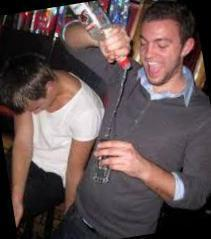Drunk: (138, 21, 180, 84)
